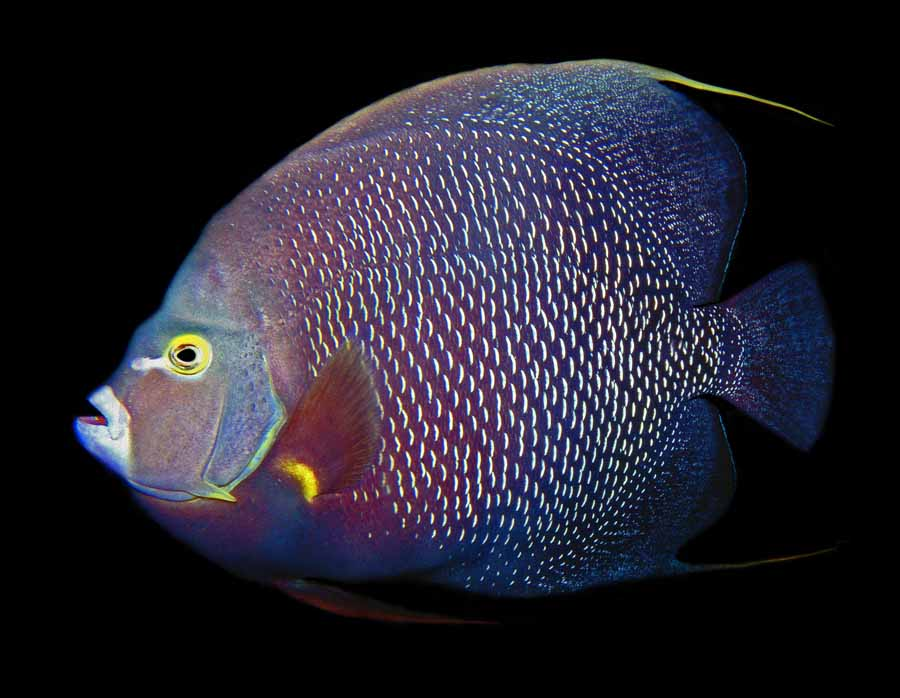Pomacanthus_paru: (57, 33, 868, 630)
